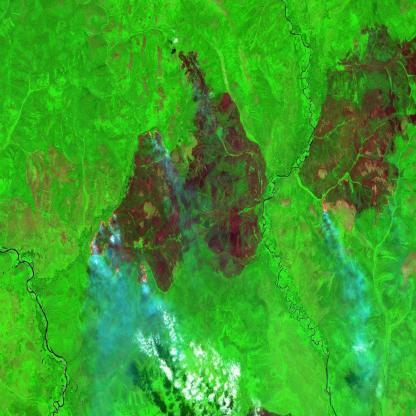fire: (88, 209, 148, 290), (318, 192, 334, 220)
